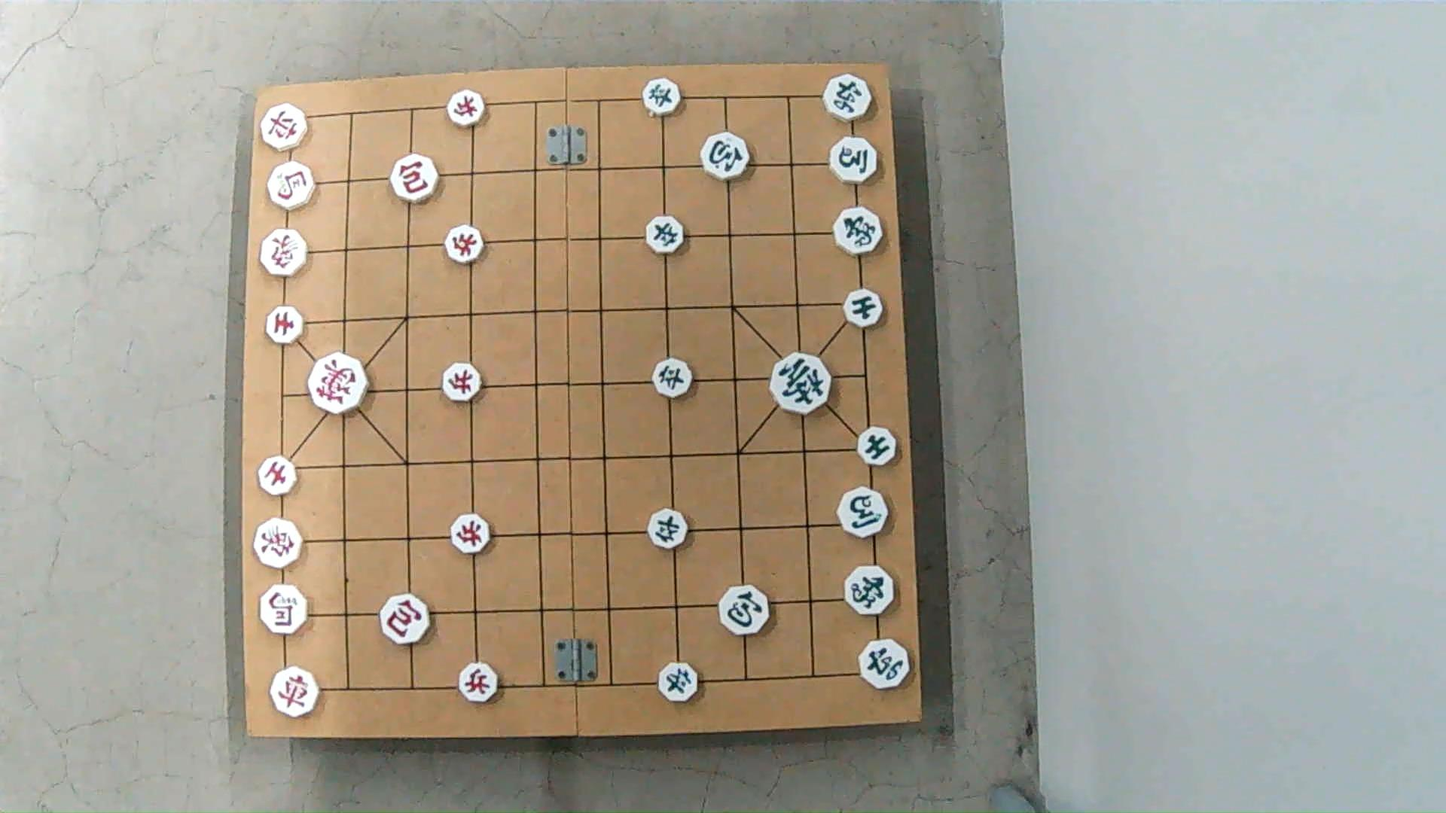cha_green: (856, 639, 914, 687), (825, 76, 877, 120)
cha_red: (271, 669, 322, 715), (258, 108, 307, 151)
jol_green: (657, 664, 700, 701), (648, 360, 691, 395), (647, 514, 690, 549), (645, 217, 686, 251), (641, 81, 682, 114)
jol_red: (450, 517, 492, 554), (458, 665, 501, 701), (443, 364, 485, 400), (446, 227, 487, 262), (448, 92, 489, 125)
ma_green: (837, 489, 889, 535), (826, 138, 878, 181)
ma_red: (266, 158, 316, 211), (262, 587, 311, 635)
po_green: (716, 588, 769, 632), (700, 132, 752, 175)
po_red: (381, 599, 433, 644), (389, 159, 439, 202)
sa_green: (844, 288, 886, 327), (859, 429, 901, 465)
sa_red: (264, 303, 304, 346), (256, 455, 300, 492)
sang_green: (831, 204, 884, 256), (846, 567, 898, 614)
sang_red: (250, 521, 301, 566), (261, 230, 310, 275)
wang_green: (770, 352, 834, 414)
wang_red: (309, 355, 374, 413)
